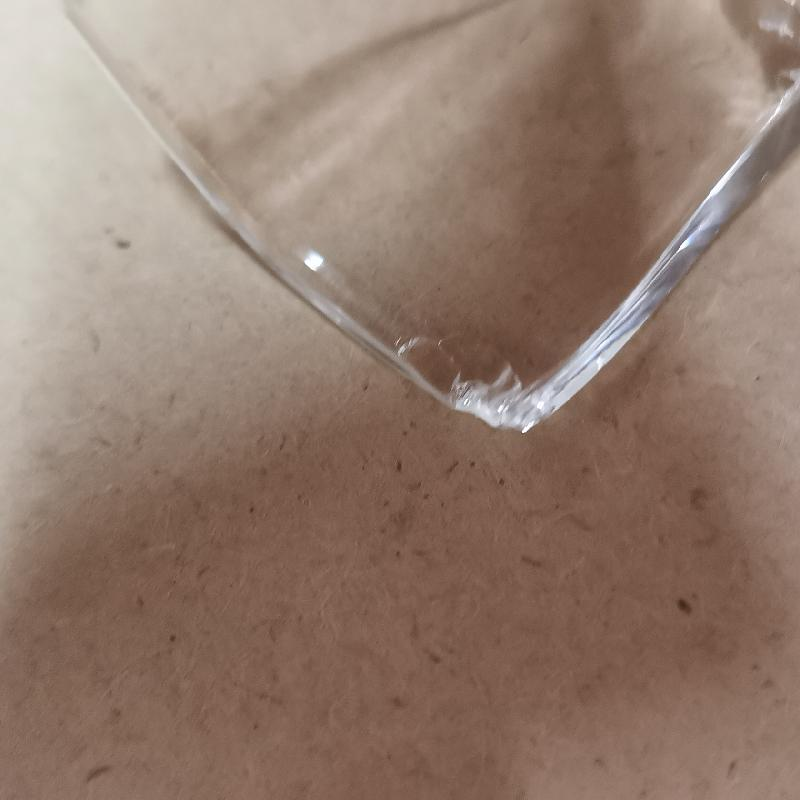glass: (54, 0, 799, 438)
